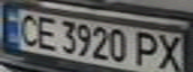0: (109, 26, 133, 64)
2: (90, 24, 112, 61)
3: (54, 19, 78, 55)
9: (72, 21, 93, 57)
C: (12, 11, 42, 47)
E: (30, 13, 60, 51)
P: (130, 29, 163, 69)
X: (154, 33, 187, 71)
